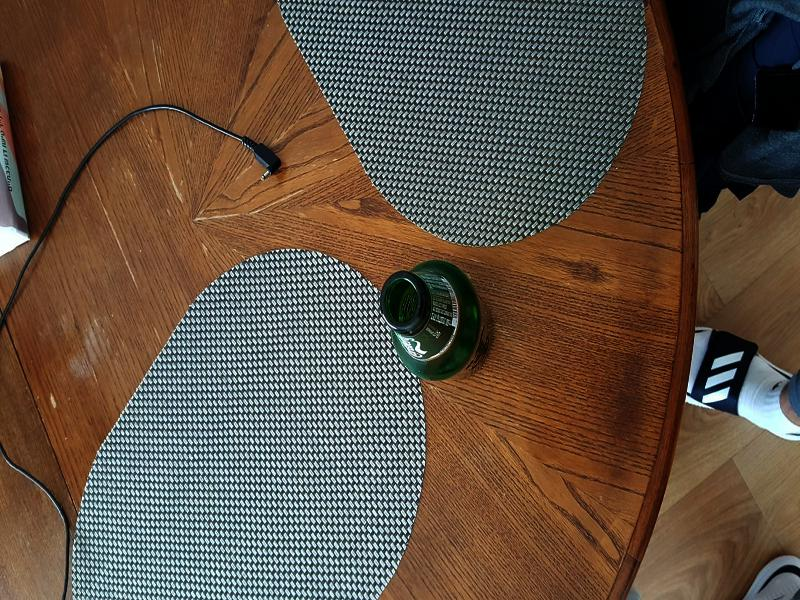Beer: (380, 259, 492, 380)
